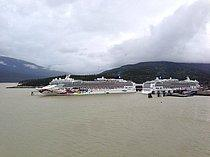Ship: (37, 71, 141, 98), (140, 75, 205, 96)
